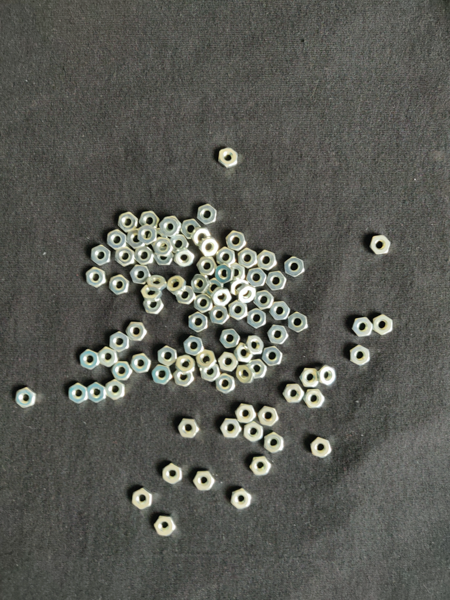nut: (15, 387, 37, 409), (154, 516, 176, 537), (132, 488, 153, 510), (350, 345, 371, 367), (197, 204, 218, 226), (231, 489, 252, 510), (175, 355, 196, 376), (215, 373, 236, 394), (254, 290, 275, 311), (109, 275, 130, 296), (118, 212, 139, 233), (218, 148, 239, 169), (264, 432, 284, 454), (220, 419, 242, 439), (178, 419, 200, 439), (283, 384, 305, 404), (352, 318, 374, 338), (373, 314, 393, 336), (267, 325, 289, 345), (129, 265, 151, 285), (173, 248, 195, 268), (163, 464, 183, 485), (250, 456, 271, 476), (311, 438, 332, 458), (244, 422, 264, 443), (235, 404, 256, 424), (258, 407, 279, 427), (304, 389, 325, 409), (370, 235, 391, 255), (152, 365, 173, 385), (98, 347, 118, 368), (158, 346, 178, 367), (184, 336, 205, 356), (218, 353, 239, 373), (247, 360, 268, 380), (262, 347, 283, 367), (234, 343, 254, 364), (220, 329, 241, 349), (288, 312, 308, 333), (188, 312, 208, 333), (210, 305, 230, 326), (86, 267, 106, 288), (266, 271, 287, 291), (285, 257, 305, 278), (238, 248, 258, 269), (226, 231, 246, 252), (115, 247, 136, 267), (91, 245, 111, 266), (107, 230, 127, 251), (181, 219, 201, 240), (137, 224, 157, 245), (199, 364, 221, 383), (269, 302, 291, 321), (80, 350, 100, 370), (109, 332, 129, 352), (197, 350, 217, 370), (237, 284, 257, 304), (257, 251, 277, 271), (200, 237, 220, 257), (127, 229, 147, 249), (194, 472, 215, 491), (318, 365, 337, 386), (112, 362, 133, 381), (131, 354, 152, 373), (126, 323, 147, 342), (229, 300, 248, 321), (248, 308, 267, 329), (215, 263, 234, 284), (173, 370, 195, 388), (141, 285, 163, 303), (300, 368, 319, 388), (69, 384, 88, 404), (87, 383, 106, 403), (236, 365, 255, 385), (244, 336, 264, 355), (194, 294, 213, 314), (175, 286, 195, 305), (247, 269, 267, 288), (191, 228, 211, 247), (153, 238, 173, 257), (148, 229, 168, 248), (159, 218, 179, 237), (211, 288, 232, 306), (106, 381, 125, 400), (167, 276, 186, 295), (217, 247, 236, 266), (155, 247, 174, 266), (135, 247, 154, 266), (227, 263, 245, 283), (197, 257, 217, 275), (169, 235, 189, 253), (139, 211, 159, 229), (143, 298, 164, 315), (192, 275, 211, 293), (206, 279, 224, 297), (230, 279, 249, 296), (147, 275, 167, 291)
